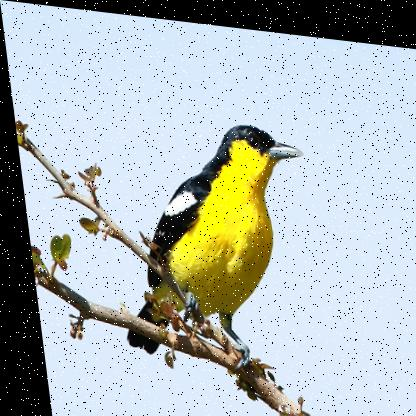Burung: (96, 105, 322, 368)
